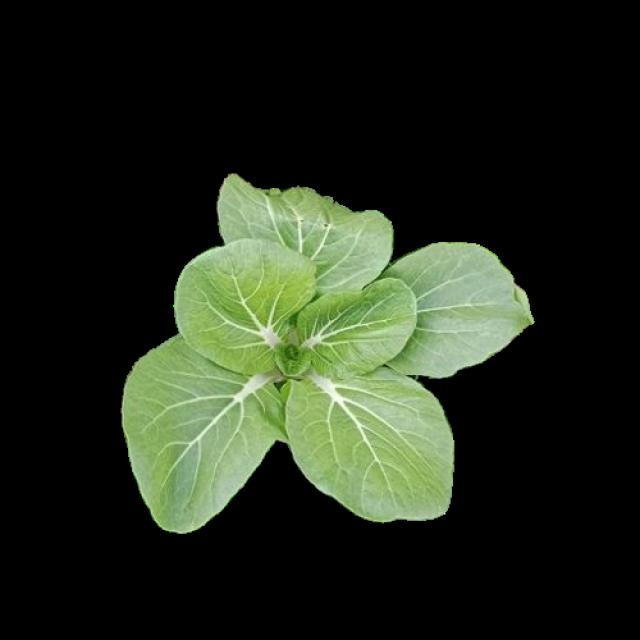healthy: (119, 172, 522, 528)
mature: (121, 174, 524, 531)
